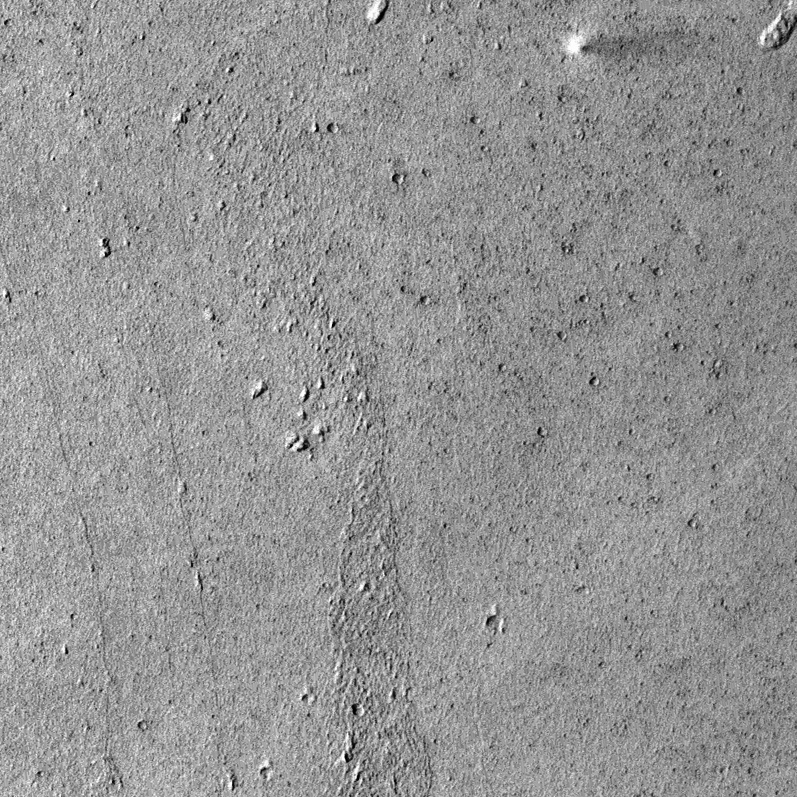dust_devil: (564, 31, 644, 63)
